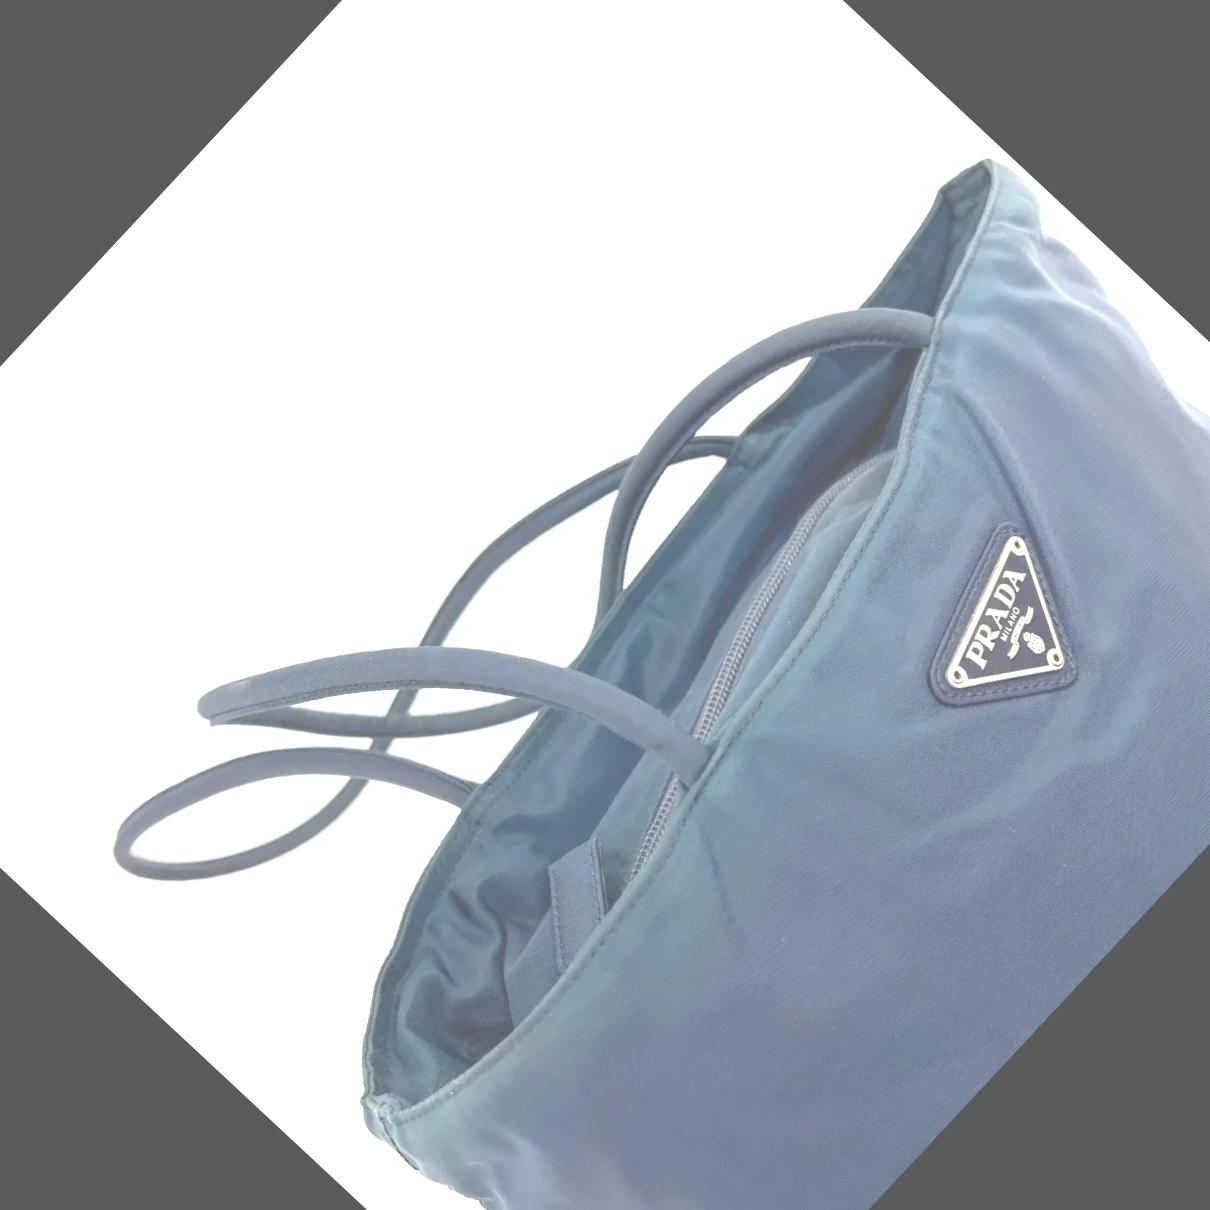PRADA: (907, 532, 1109, 734)
